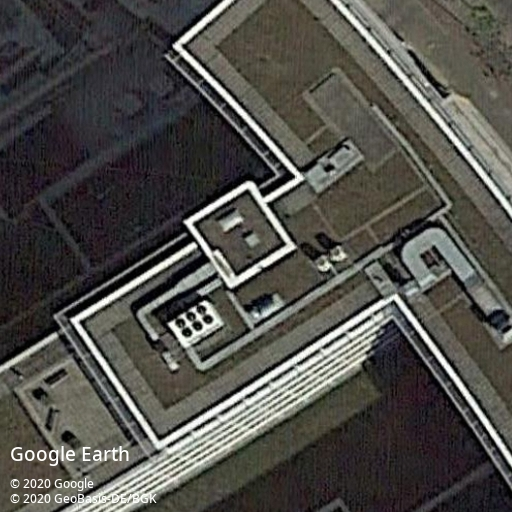Chiller: (165, 300, 222, 350), (313, 254, 334, 276), (330, 245, 348, 264)
